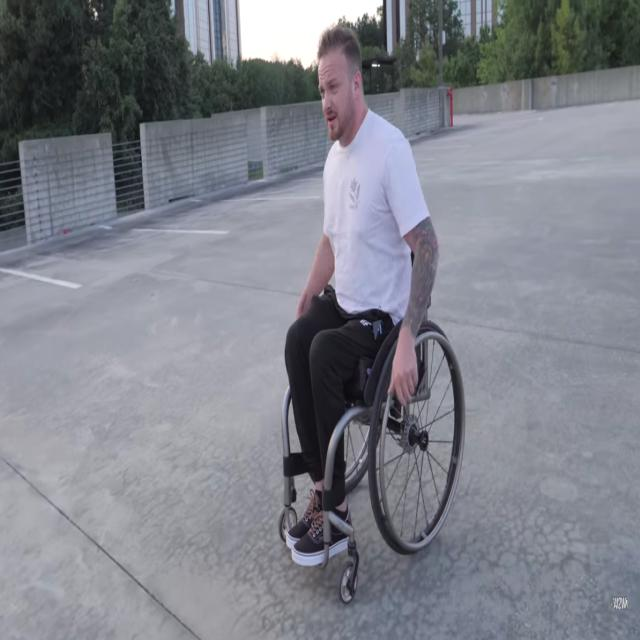wheelchairs: (278, 277, 458, 608)
